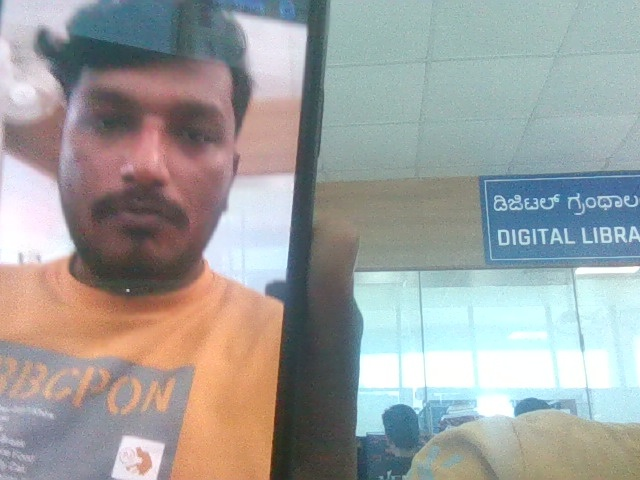fake: (30, 0, 265, 333)
